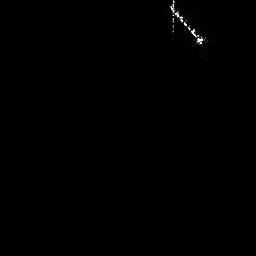ship: (168, 1, 207, 45)
